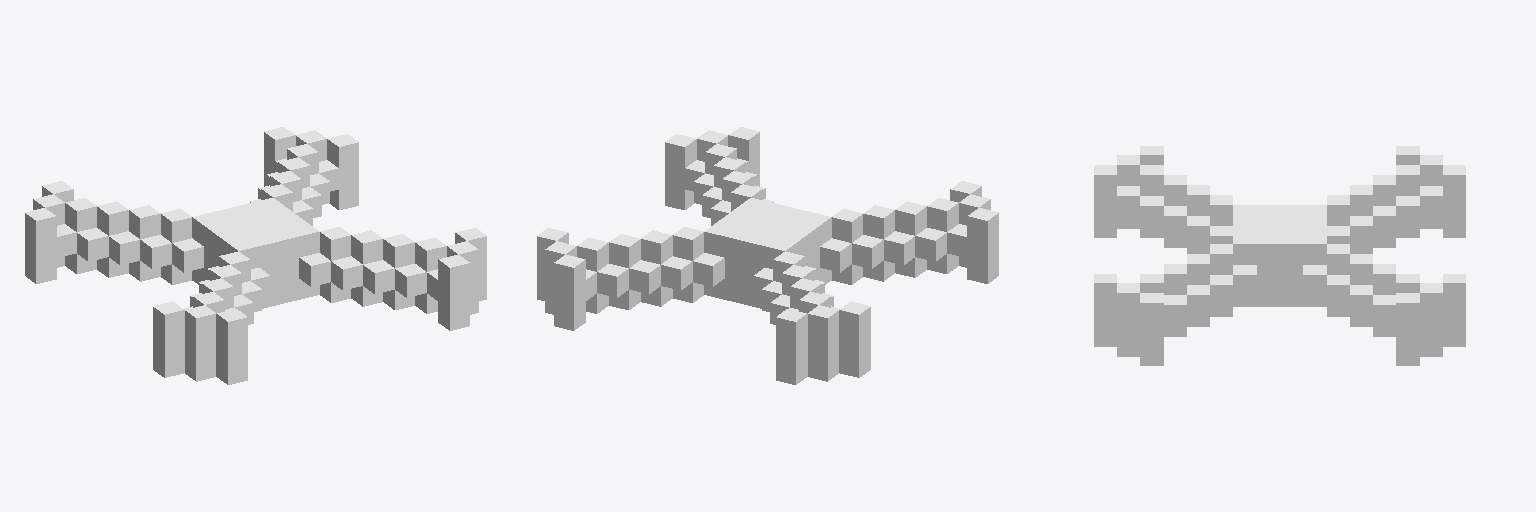
Rendered from treads.obj.
3 renders of one model, left to right at view 1: azimuth 30°, elevation 25°; view 2: azimuth 150°, elevation 25°; view 3: azimuth 270°, elevation 25°, orthographic.
Parts seen in each view (by area): view 1: object 1; view 2: object 1; view 3: object 1.
Boxes of the visible parts, x1=… form: object 1: x1=25, y1=127, x2=486, y2=384; object 1: x1=537, y1=127, x2=998, y2=384; object 1: x1=1094, y1=146, x2=1465, y2=365.
Bounding box in the file's own units: 1.6 × 0.3 × 1.6.